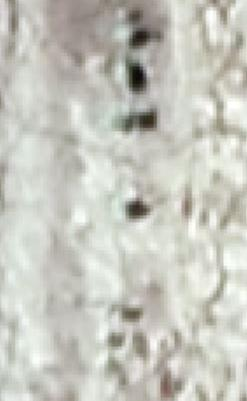cotton: (109, 111, 123, 127), (118, 198, 127, 218), (116, 31, 131, 42), (117, 61, 125, 80)
